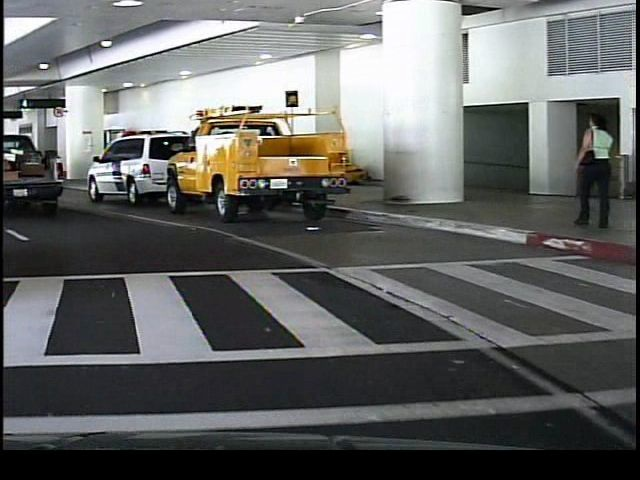person: (567, 109, 617, 232)
